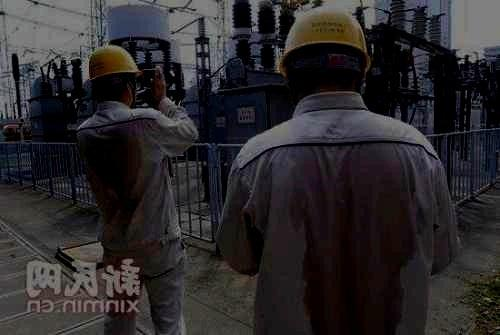helmet: (278, 5, 372, 95), (88, 45, 142, 108)
